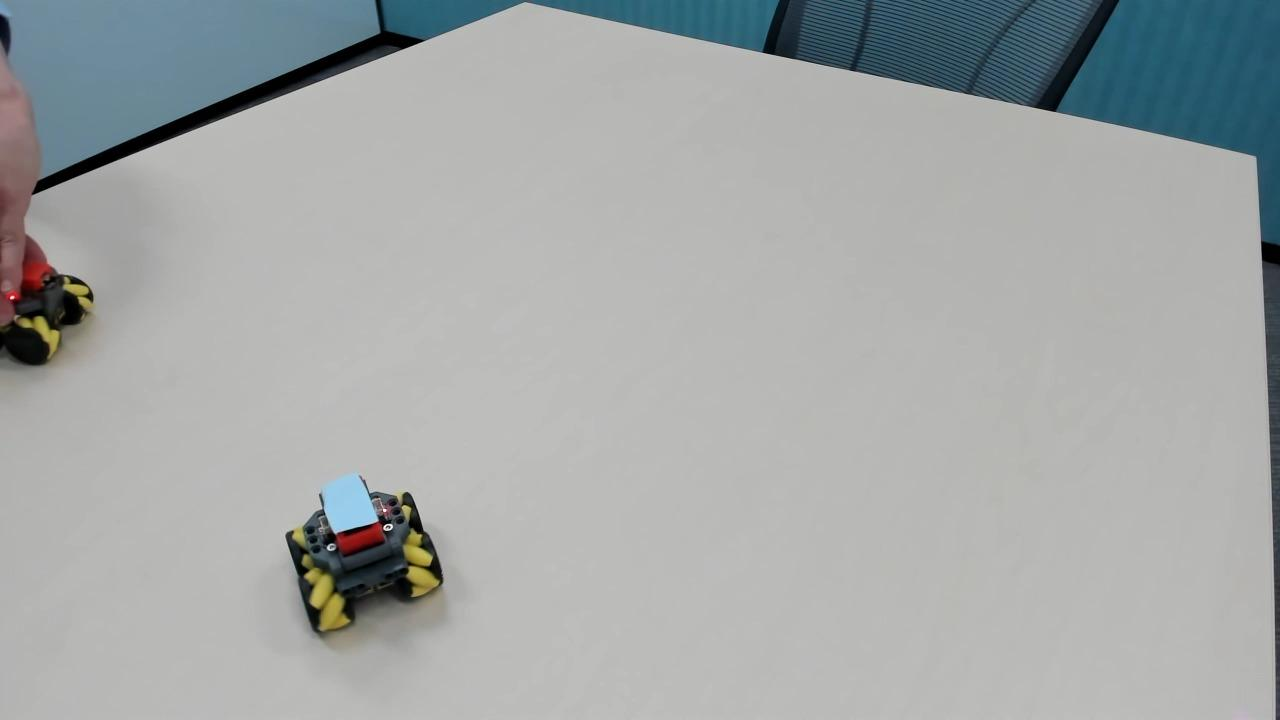B-Robot: (275, 465, 451, 644)
R-Robot: (0, 230, 109, 365)
